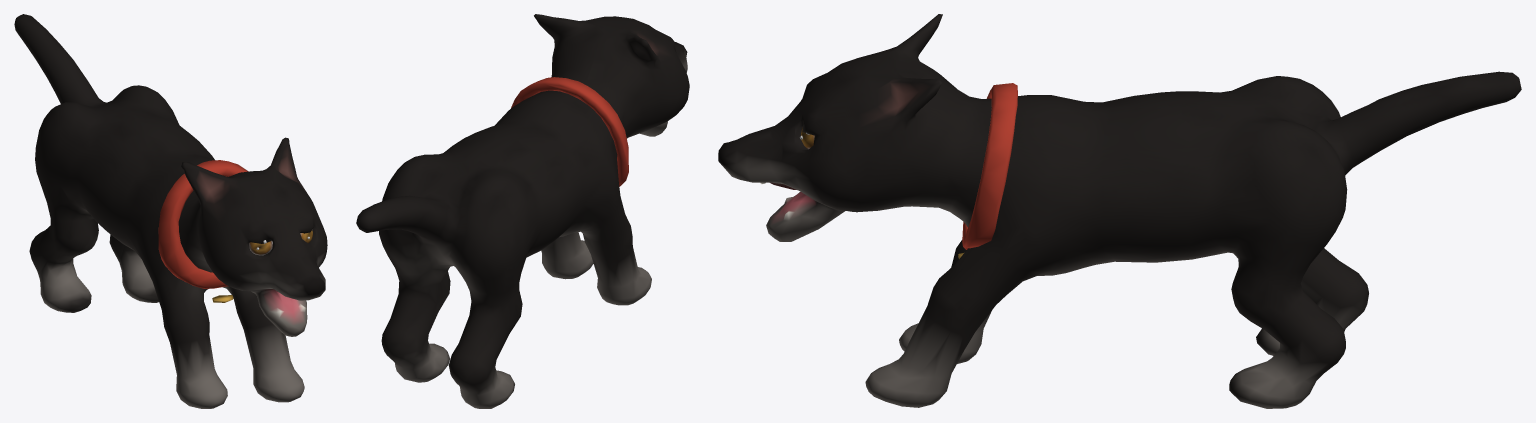
Rendered from cho_muc_dop.glb.
The picture shows the model from 3 angles, left to right: view 1: azimuth 30°, elevation 25°; view 2: azimuth 150°, elevation 25°; view 3: azimuth 270°, elevation 25°; orthographic projection. The views are drawn at different scales.
Parts seen in each view (by area): view 1: cho_muc_dop; view 2: cho_muc_dop; view 3: cho_muc_dop.
Boxes of the visible parts, x1,y1,x2,y2 form: cho_muc_dop: (14,14,327,408); cho_muc_dop: (356,14,689,408); cho_muc_dop: (718,14,1521,408).
Bounding box in the file's own units: 0.3556 × 0.6557 × 1.44.
